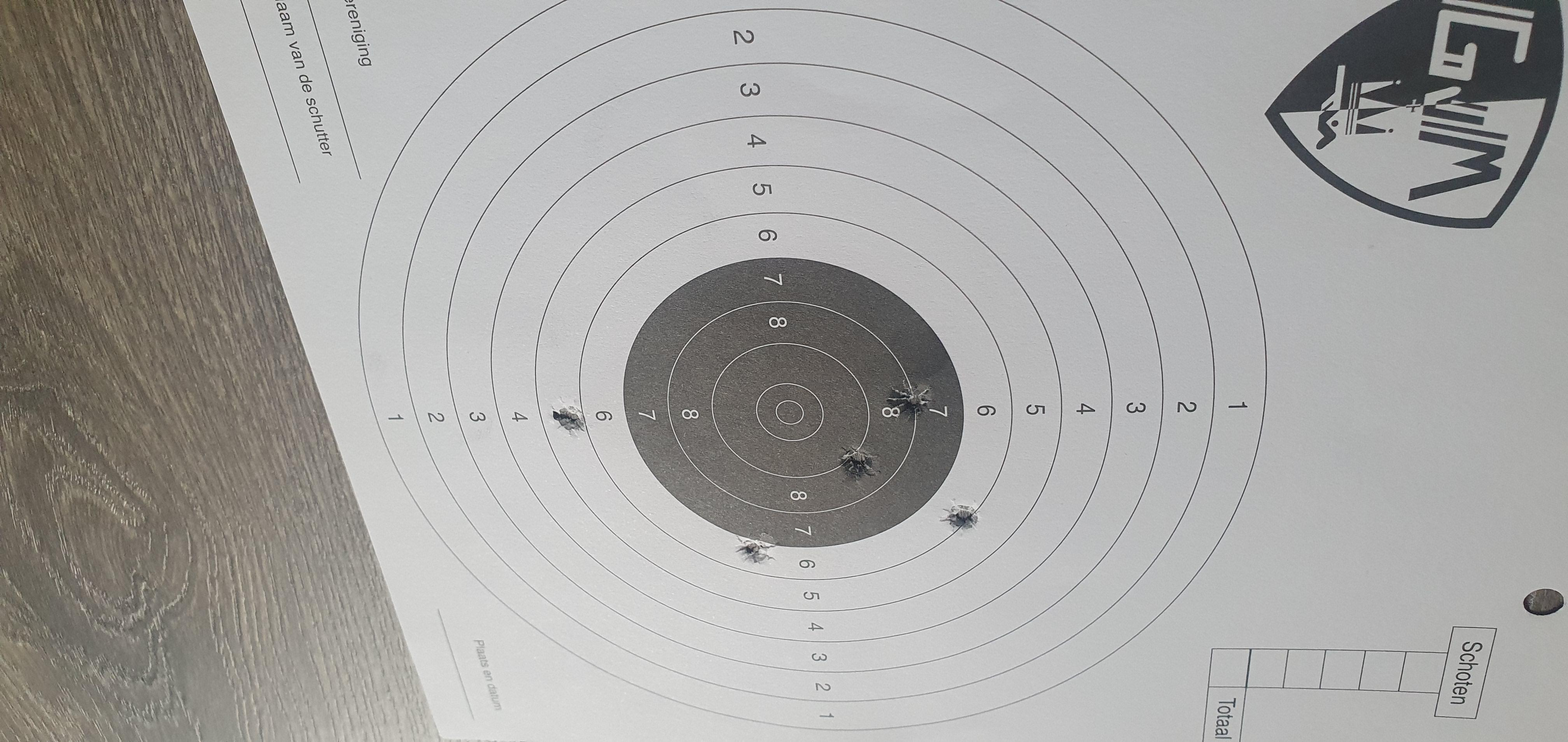hole: (975, 304, 1017, 346), (585, 206, 628, 243), (636, 326, 680, 361), (788, 178, 834, 208), (692, 262, 729, 294)
